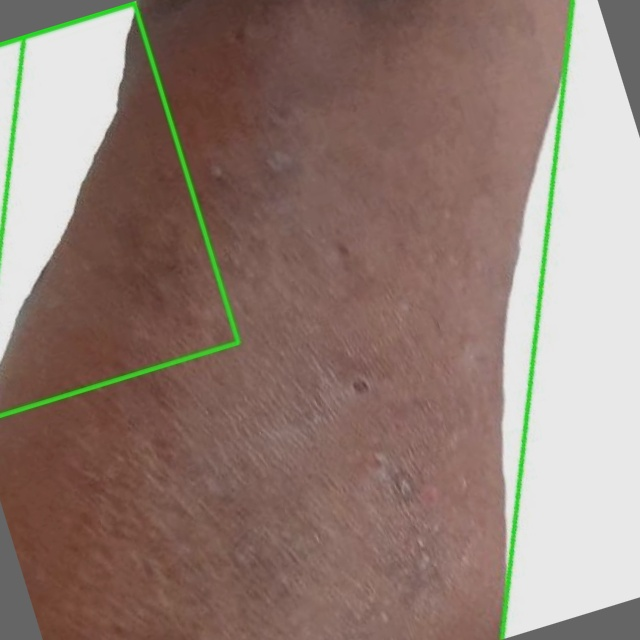Contact Dermatitis: (17, 0, 542, 639), (0, 2, 236, 414)
